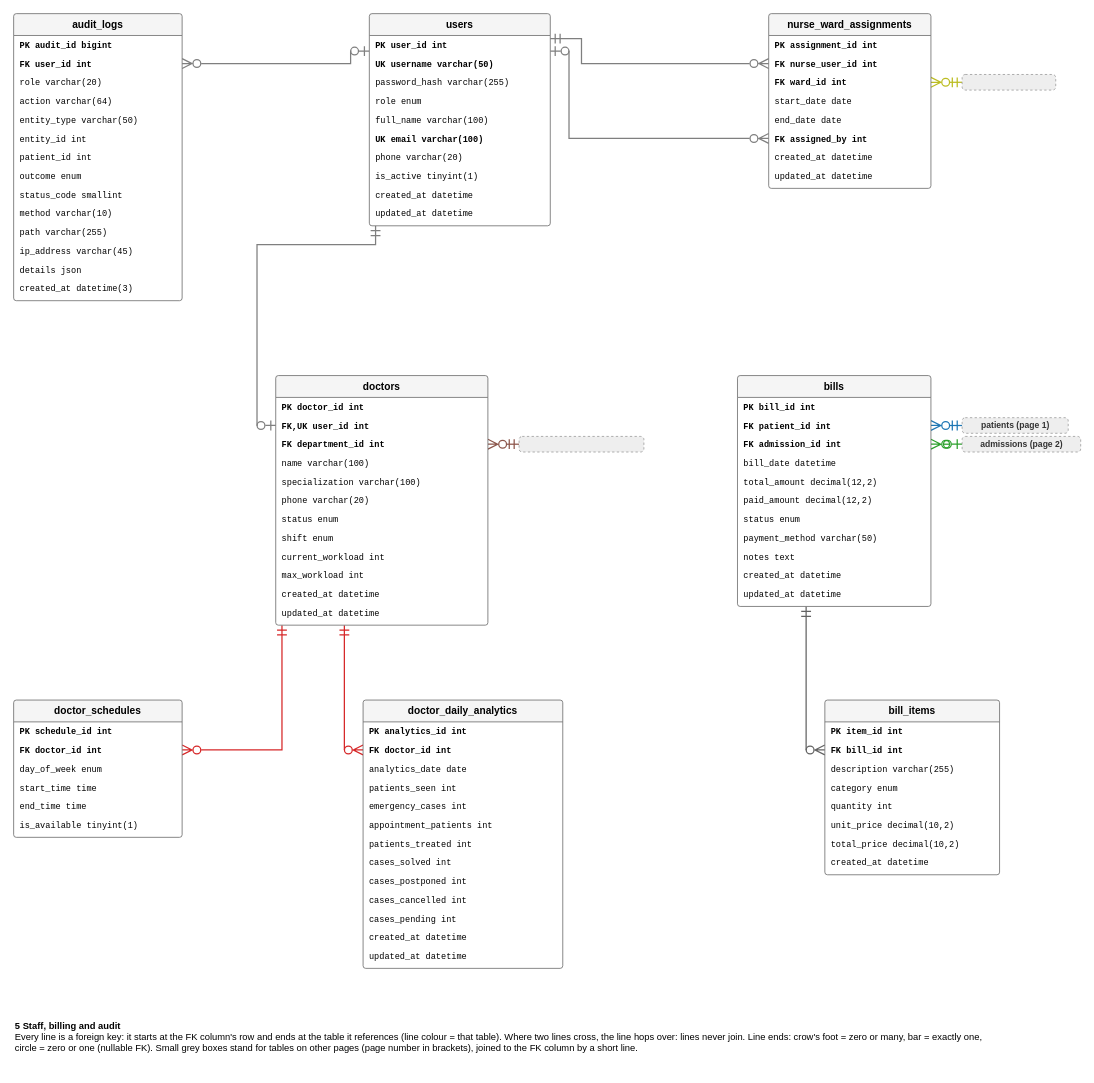
Image size: 1094x1083. Some labels were removed from this diagram. The centre of each missing label's shape, as x and y in pixels:
"departments (page 2)" belongs at (x=581, y=444).
"wards (page 2)" belongs at (x=1008, y=82).
